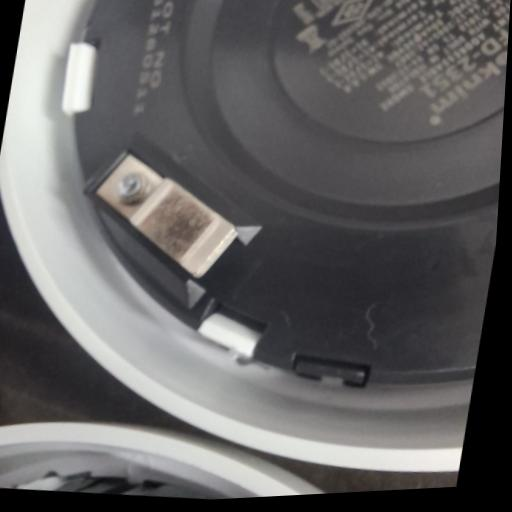yaysiz: (77, 143, 252, 290)
